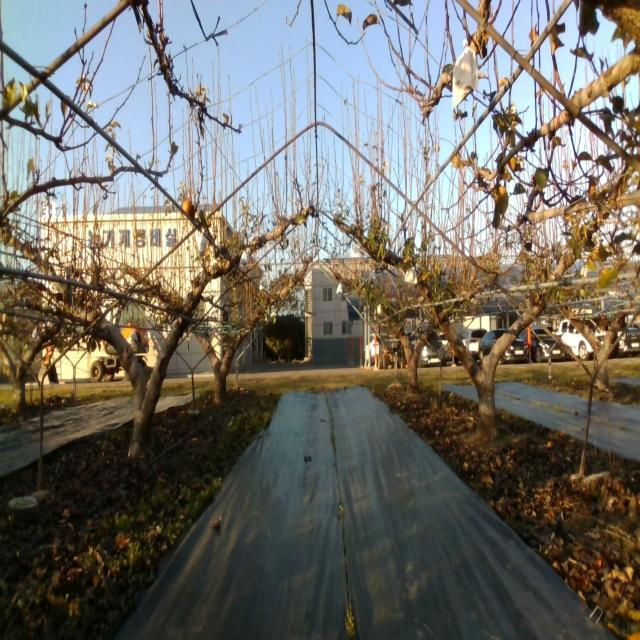pearbags: (452, 38, 479, 110), (404, 263, 417, 284), (196, 228, 206, 255), (239, 248, 250, 269)
